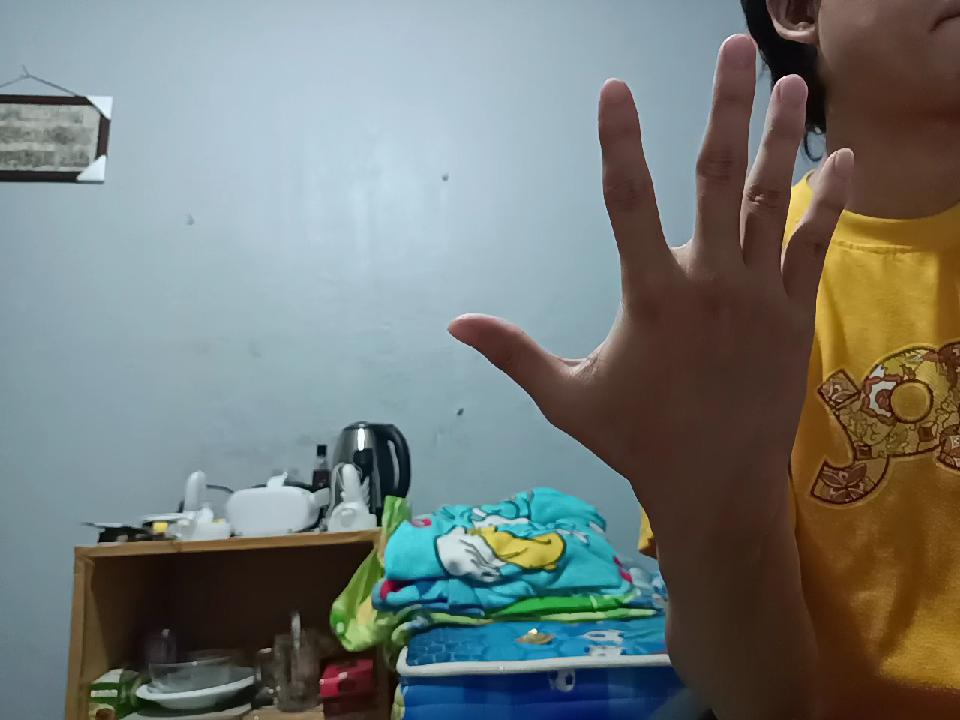paper: (445, 50, 853, 524)
